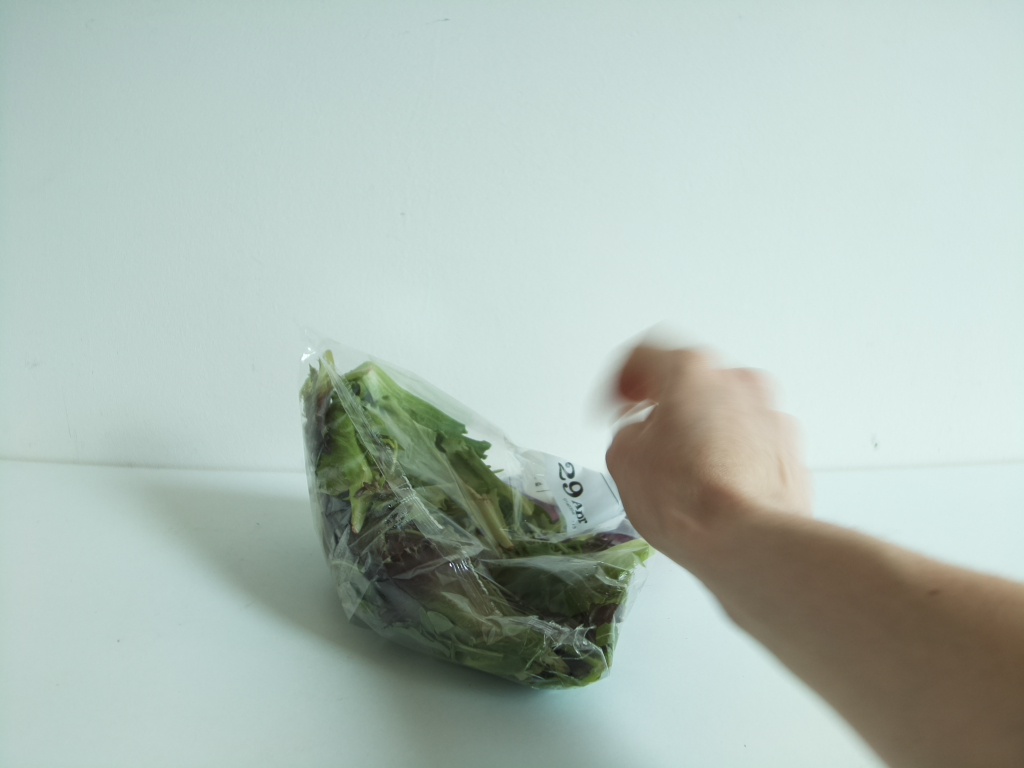salad: (301, 349, 649, 691)
